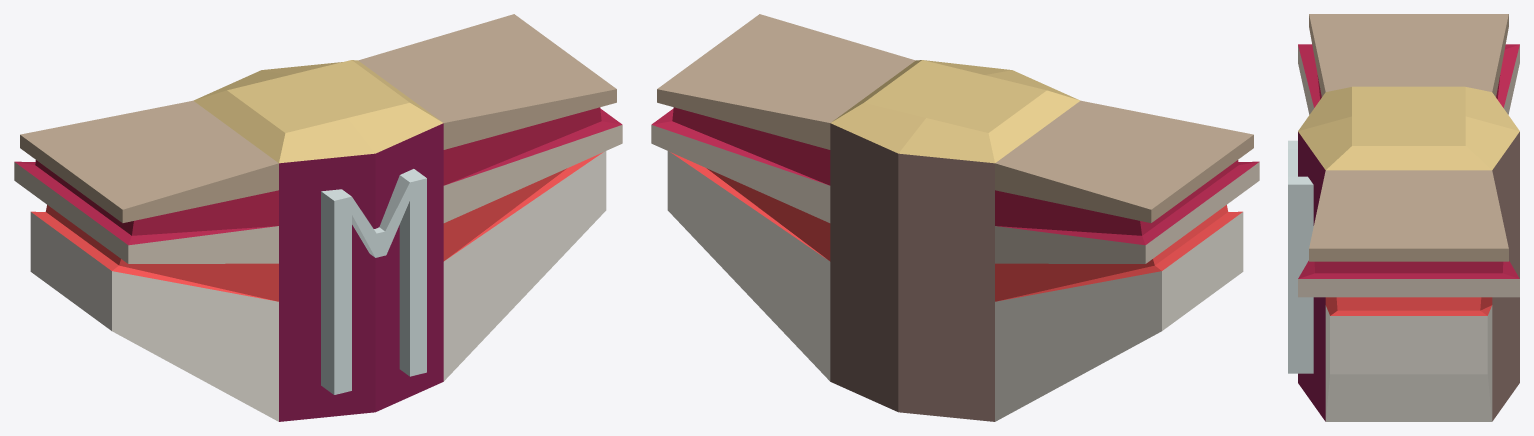
File: PowerUpContentM.fbx
The picture shows the model from 3 angles, left to right: view 1: azimuth 30°, elevation 25°; view 2: azimuth 150°, elevation 25°; view 3: azimuth 270°, elevation 25°; orthographic projection. The views are drawn at different scales.
Parts seen in each view (by area): view 1: PowerUpContentM; view 2: PowerUpContentM; view 3: PowerUpContentM.
Boxes of the visible parts, x1,y1,x2,y2 form: PowerUpContentM: (14,14,622,421); PowerUpContentM: (651,14,1259,421); PowerUpContentM: (1288,14,1519,421).
Size of the model in its own units: 100 by 52.96 by 41.79.
